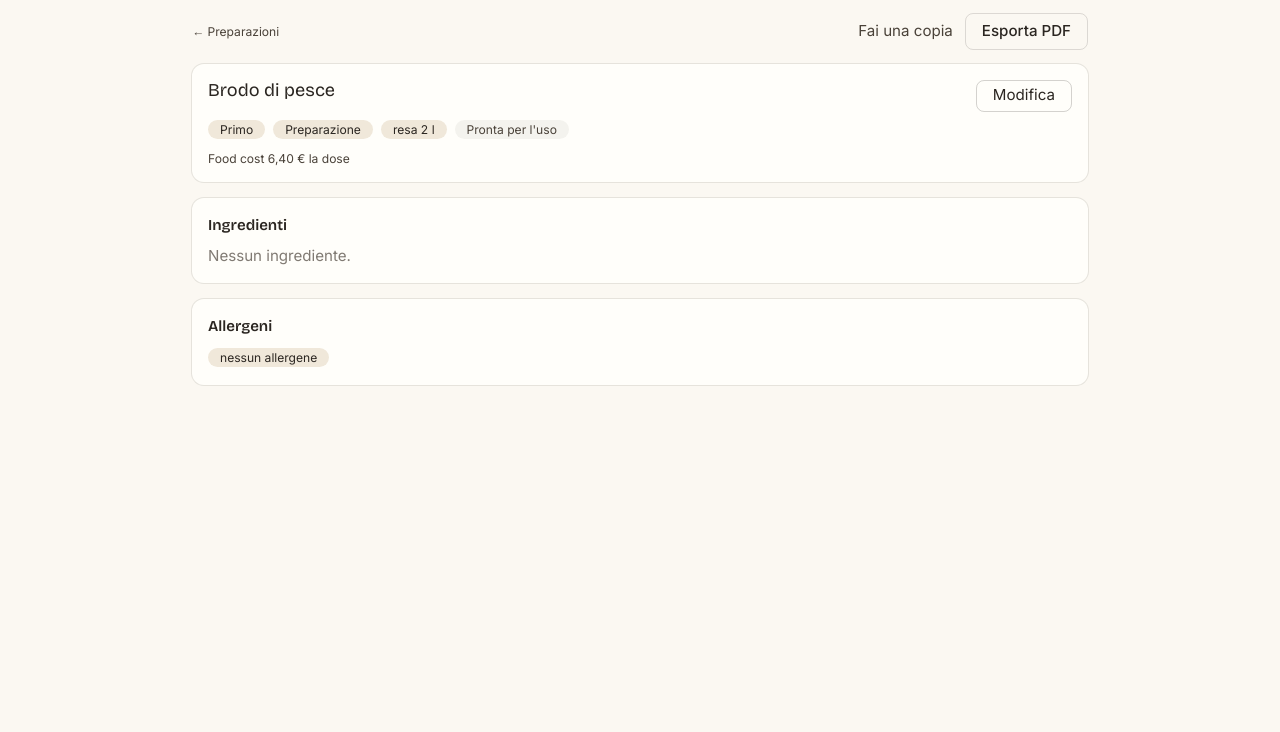
Test: 🔴 gli stati dicono che cosa è la scheda › una preparazione segnata pronta si legge «Pronta per l'uso»
The image size is (1280, 732).
Click the button "Modifica". click: (1024, 96)
box: [976, 80, 1072, 112]
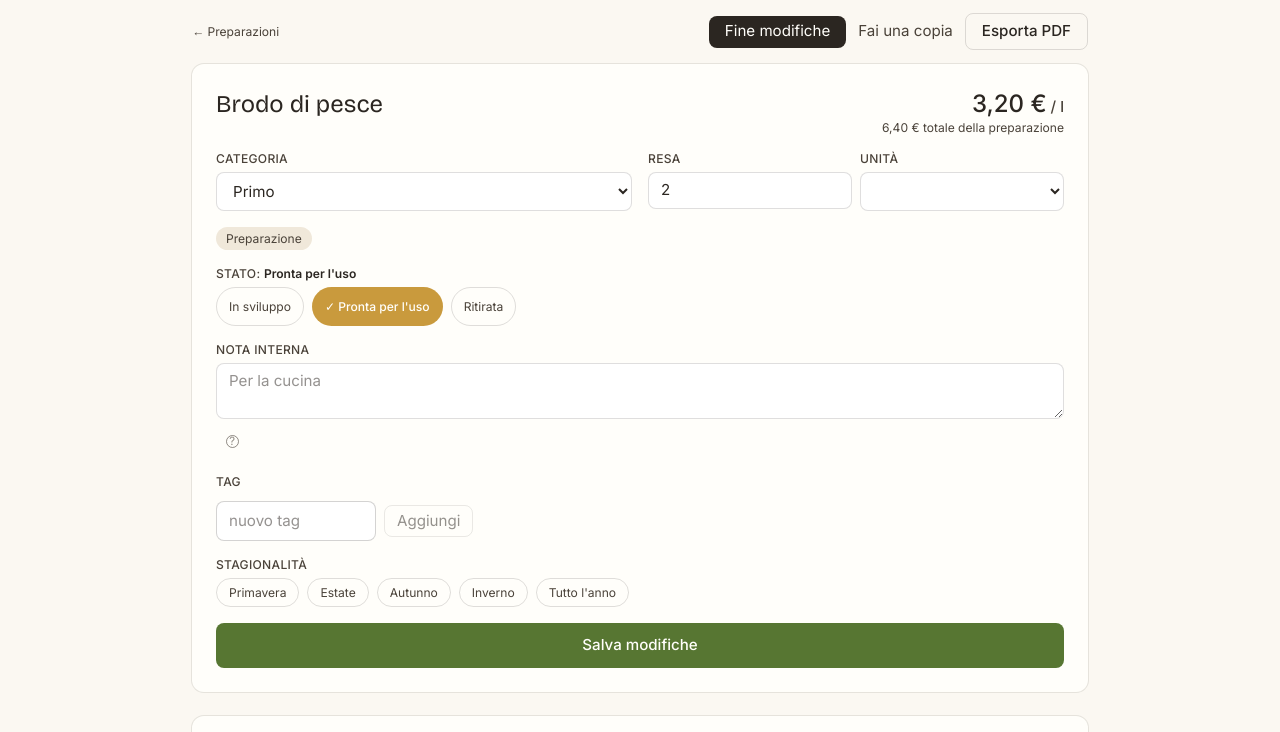
Result: the text "Stato: Pronta per l'uso" is shown at [216, 266, 356, 281]
